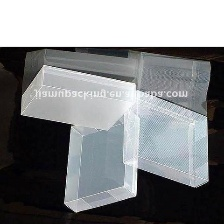plastic_box: (117, 86, 214, 193), (56, 106, 145, 217), (15, 59, 141, 135)
